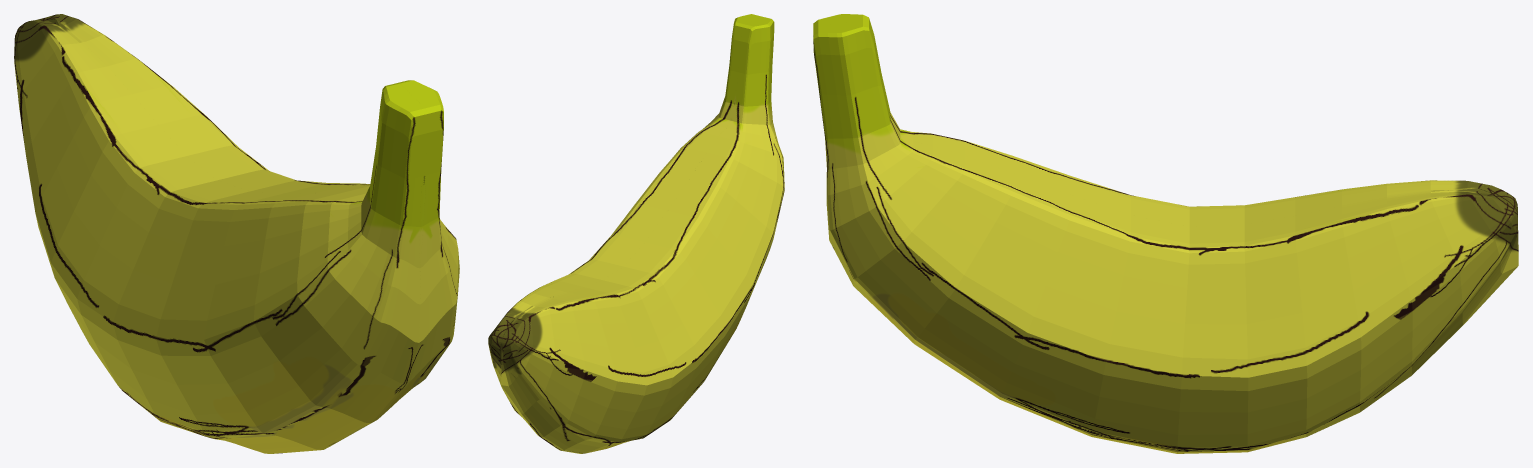
File: banana.glb
The picture shows the model from 3 angles, left to right: view 1: azimuth 30°, elevation 25°; view 2: azimuth 150°, elevation 25°; view 3: azimuth 270°, elevation 25°; orthographic projection. The views are drawn at different scales.
Visible parts, largest first — view 1: Cube; view 2: Cube; view 3: Cube.
Boxes of the visible parts, x1,y1,x2,y2 form: Cube: (14,14,459,453); Cube: (488,14,784,453); Cube: (813,14,1518,453).
Size of the model in its own units: 1.65 by 3.5 by 5.19.
1 material, 1 textured.
